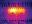Hotspot: (8, 7, 25, 15)
